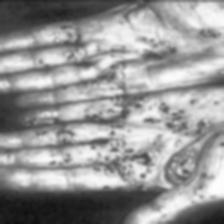Non-Cancerous Skin Condition: (120, 0, 224, 224), (0, 49, 87, 93), (37, 123, 92, 176), (19, 105, 114, 126), (46, 20, 78, 48), (0, 134, 18, 165)
